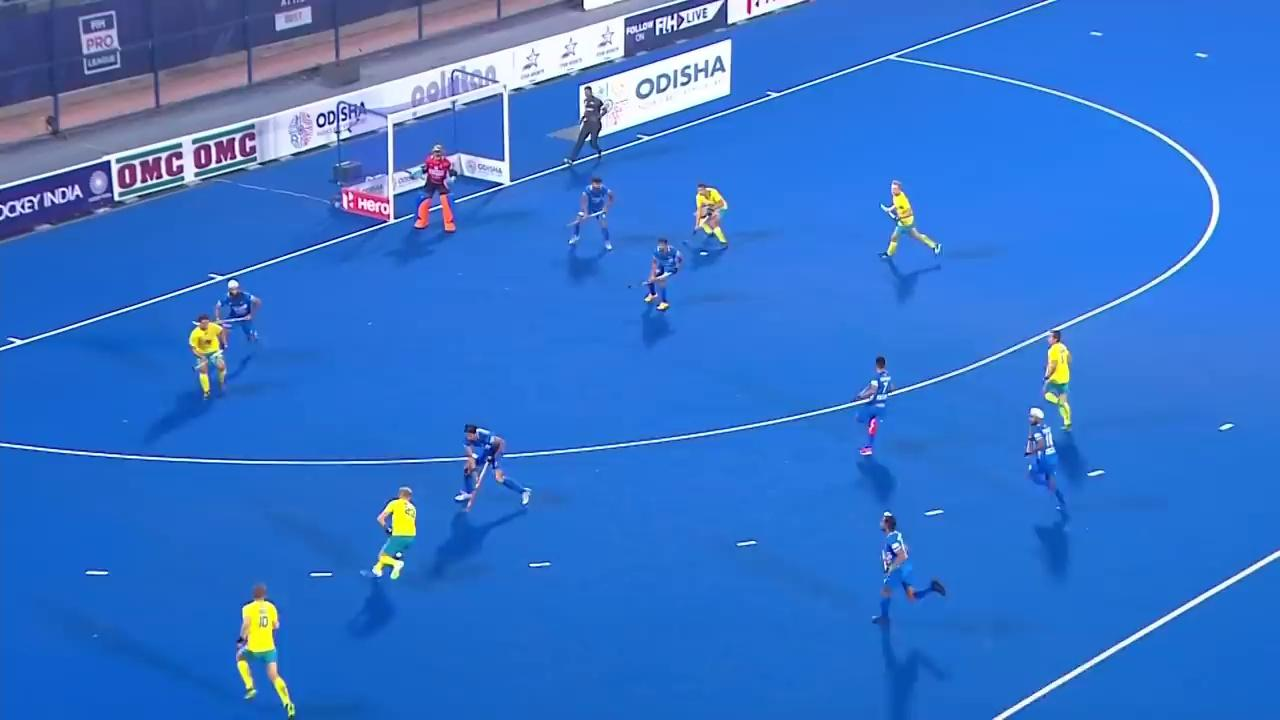ball: (392, 546, 406, 561)
